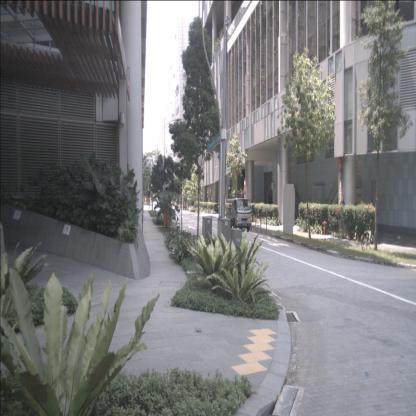movable_object-barrier: (163, 212, 172, 226), (146, 195, 148, 202)
vehicle-bicycle: (361, 219, 375, 250)
vehicle-truck: (226, 198, 252, 232)
